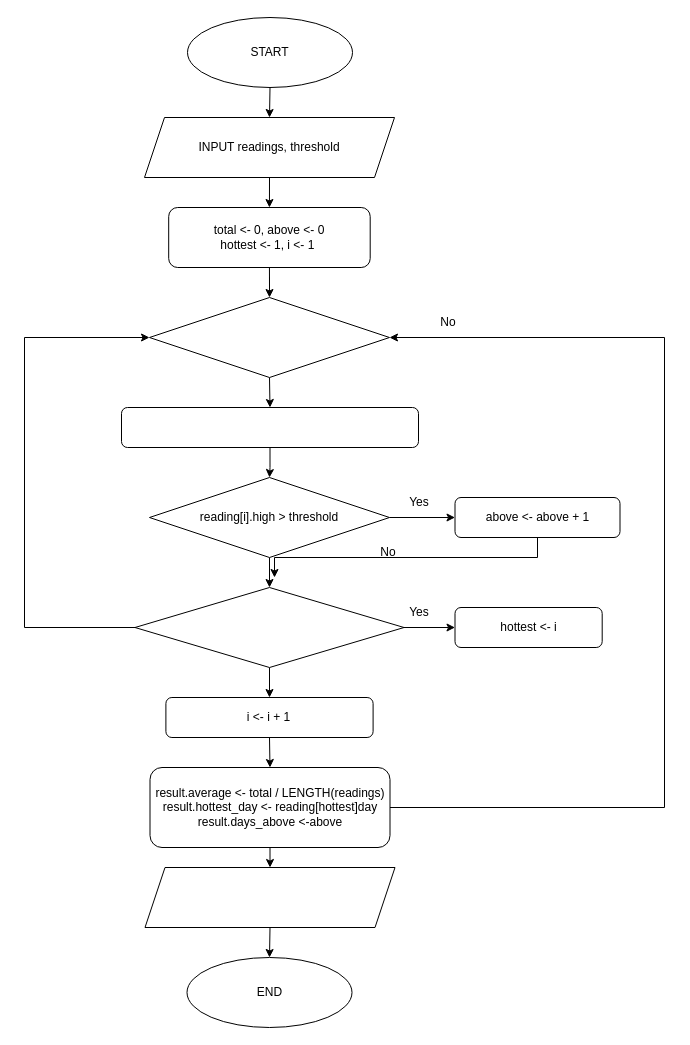
This 690x1045 diagram has some shape labels left out. Each missing label, with the centre of its shape:
i <= LENGTH(readings): point 269,337
reading[i].high > reading[hottest].high: point 269,627
RETURN result: point 269,897
total <- total + reading[i]high: point 269,427
